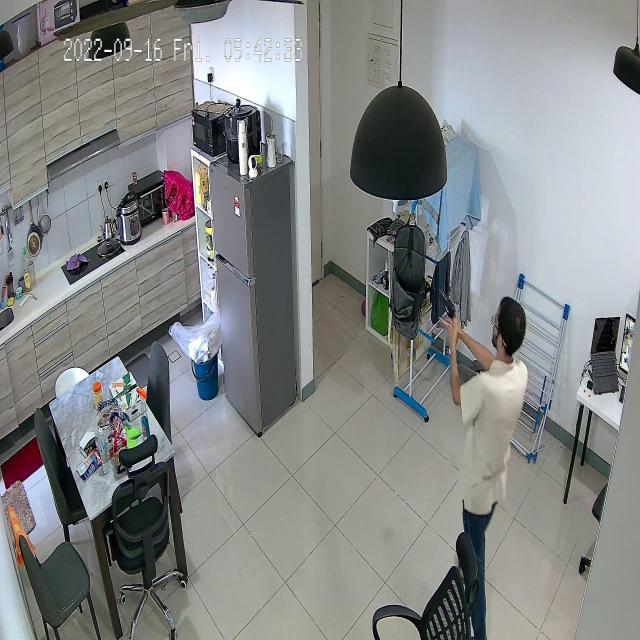Gun: (432, 286, 461, 326)
